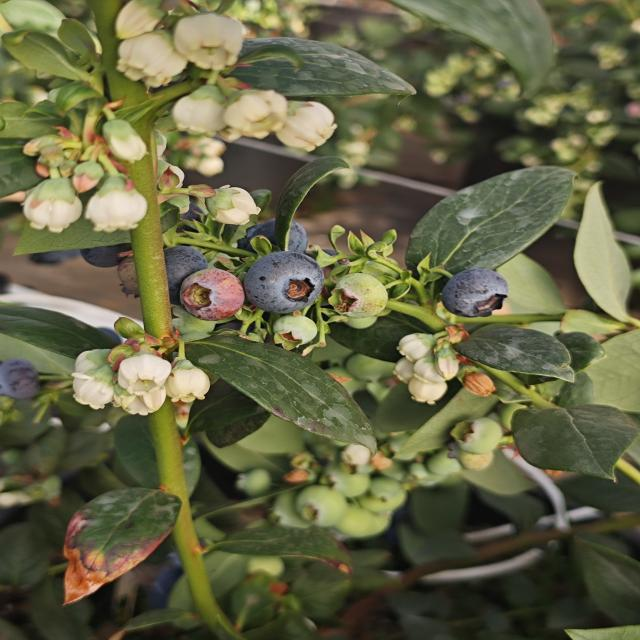ripe: (241, 249, 327, 316), (23, 229, 143, 272), (150, 238, 215, 301), (243, 209, 313, 267), (438, 266, 511, 321), (0, 350, 49, 404)
